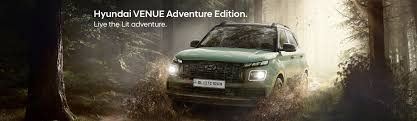car: (162, 20, 308, 116)
